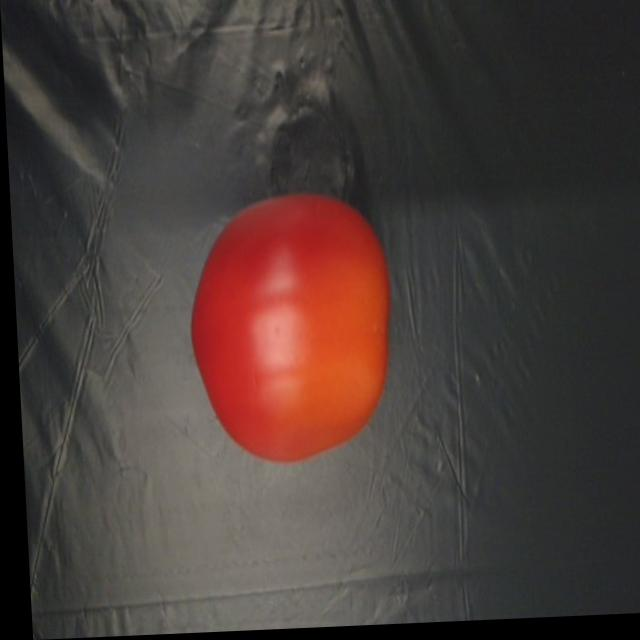kirmizi: (176, 194, 403, 493)
